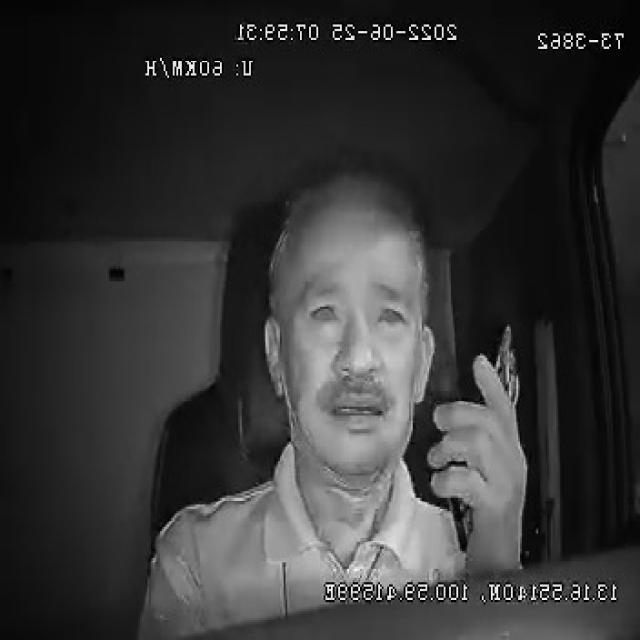phone: (449, 319, 522, 555)
